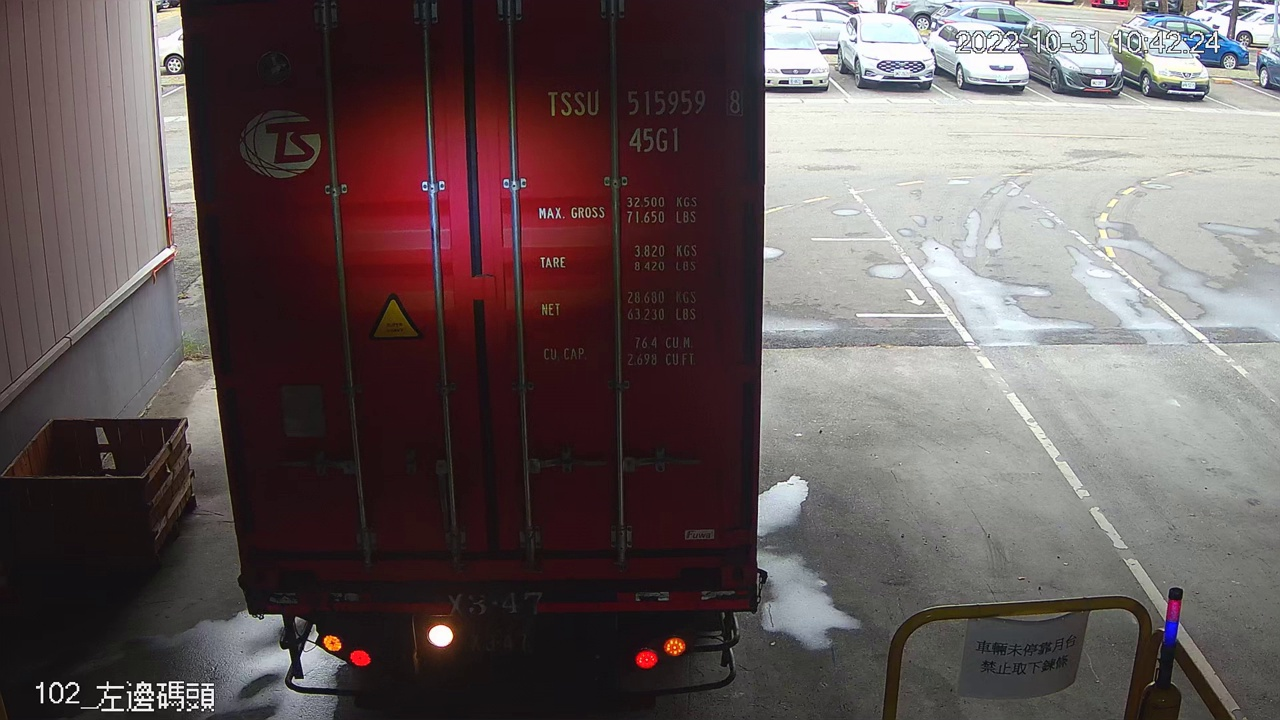container: (536, 76, 747, 165)
